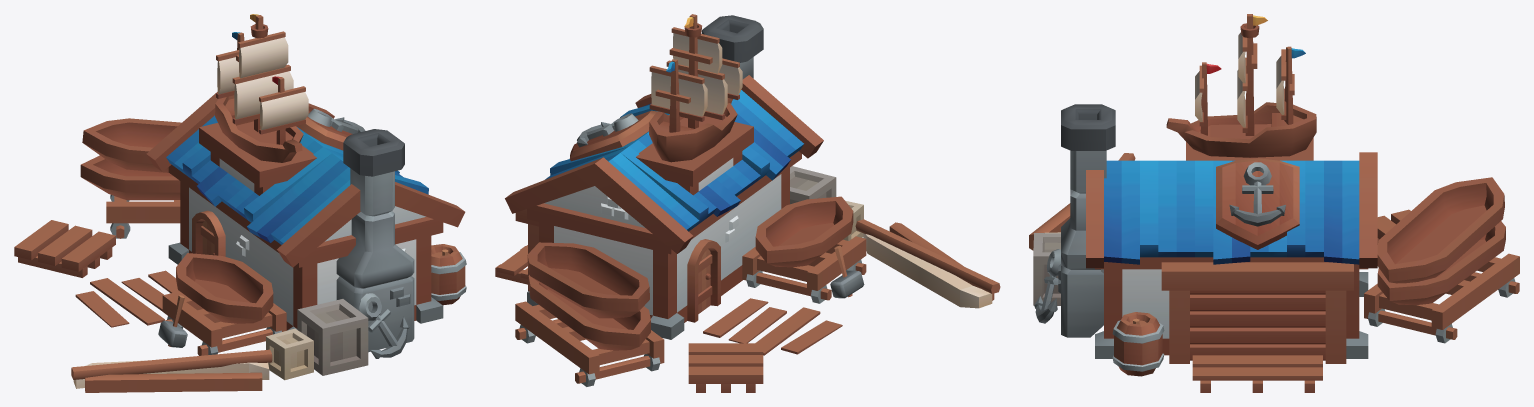
File: hexb_shipyard.glb
3 renders of one model, left to right at view 1: azimuth 30°, elevation 25°; view 2: azimuth 150°, elevation 25°; view 3: azimuth 270°, elevation 25°, orthographic. The views are drawn at different scales.
Parts seen in each view (by area): view 1: building_shipyard_blue; view 2: building_shipyard_blue; view 3: building_shipyard_blue.
Part boxes in pixels (x1,y1,x2,y2): building_shipyard_blue: (14,14,466,392); building_shipyard_blue: (495,14,1000,392); building_shipyard_blue: (1029,14,1519,392).
Size of the model in its own units: 1.92 by 1.24 by 1.88.
Materials: 1 (1 with a texture image).
